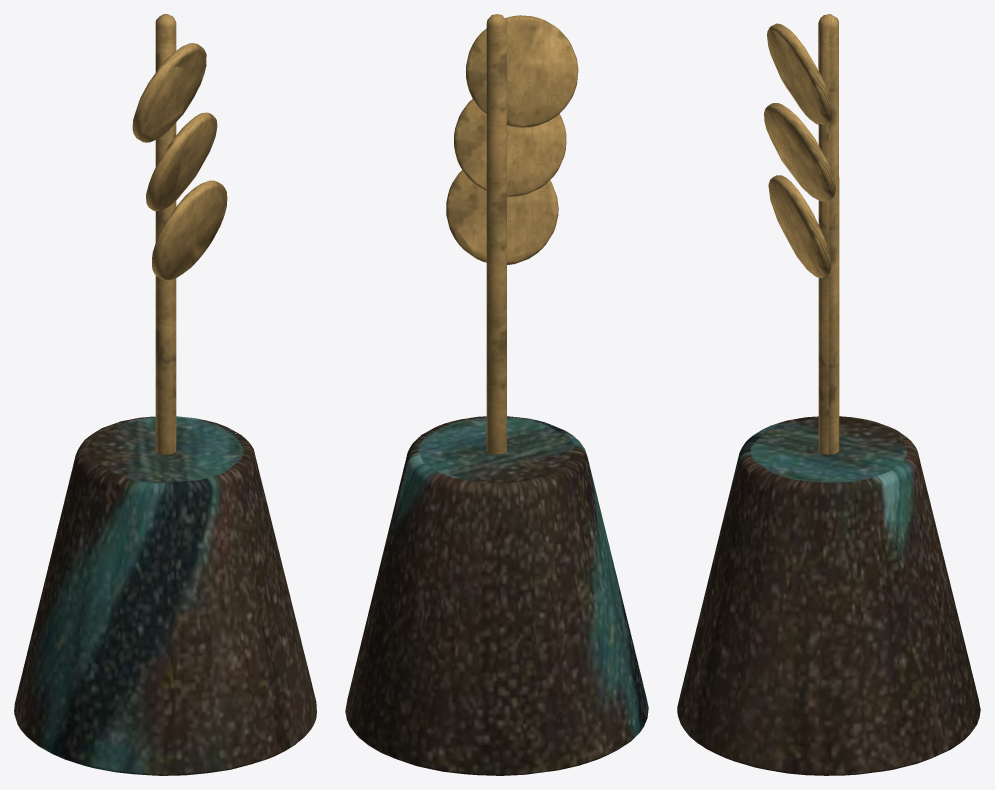
Rendered from Medenka_02_Mince_cerna.glb.
3 renders of one model, left to right at view 1: azimuth 30°, elevation 25°; view 2: azimuth 150°, elevation 25°; view 3: azimuth 270°, elevation 25°, orthographic.
Visible parts, largest first — view 1: Telo, Tyc, Mince_3, Mince_1, Mince_2; view 2: Telo, Tyc, Mince_1, Mince_2, Mince_3; view 3: Telo, Tyc, Mince_2, Mince_1, Mince_3.
Boxes of the visible parts, box(x1,y1,x2,y2) form: Telo: box(14, 416, 316, 775); Tyc: box(155, 14, 176, 454); Mince_3: box(152, 180, 227, 280); Mince_1: box(132, 43, 206, 142); Mince_2: box(146, 112, 217, 210); Telo: box(345, 416, 648, 775); Tyc: box(486, 14, 506, 454); Mince_1: box(466, 15, 578, 127); Mince_2: box(454, 99, 566, 196); Mince_3: box(446, 170, 558, 264); Telo: box(677, 416, 980, 775); Tyc: box(818, 14, 839, 454); Mince_2: box(764, 103, 835, 201); Mince_1: box(767, 23, 832, 124); Mince_3: box(768, 175, 831, 278).
Bounding box in the file's own units: 0.0397 × 0.101 × 0.0398.
Materials: 3 (3 with a texture image).
